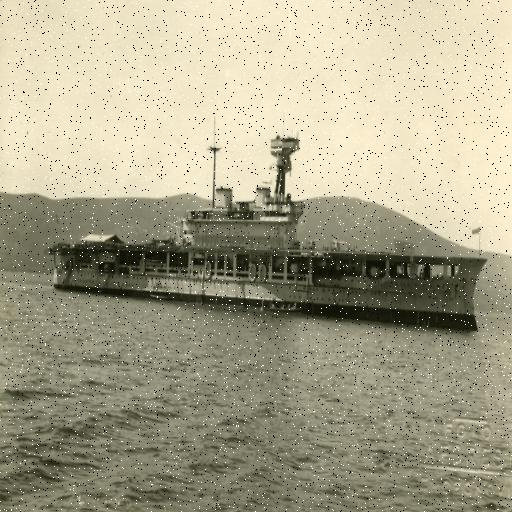Portanaves: (48, 131, 489, 338)
